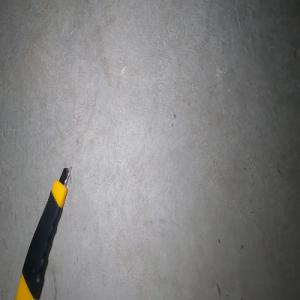Cutter: (14, 166, 70, 300)
